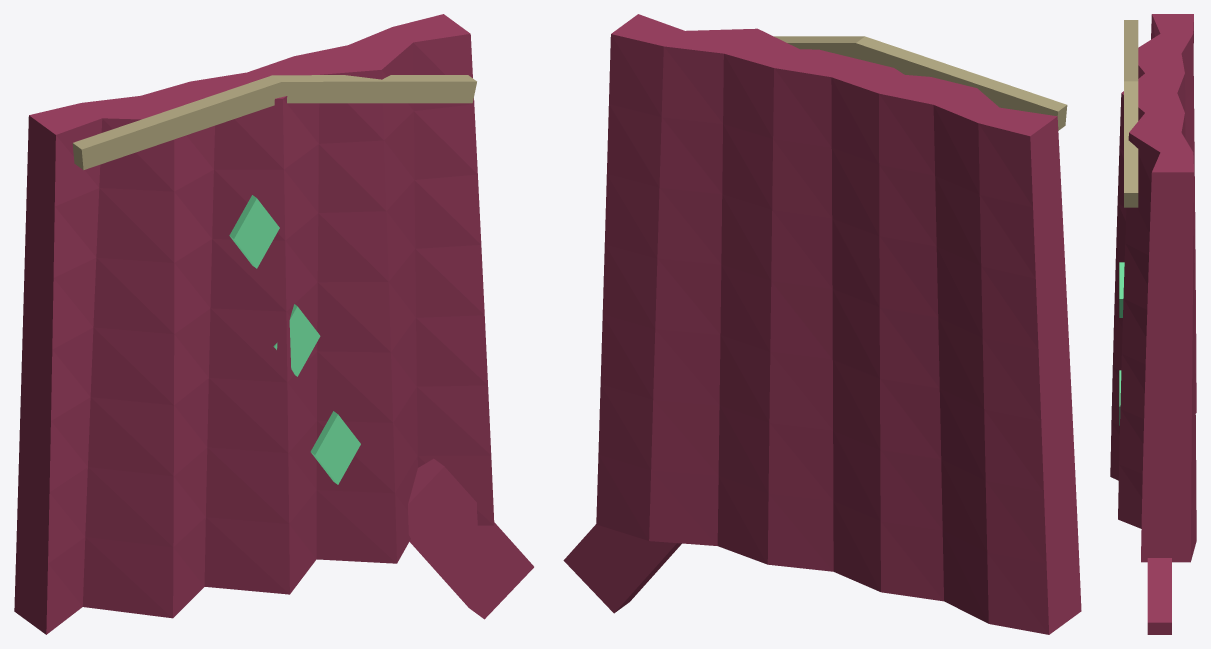
The model's file is spirit_script_streamer.obj.
3 views of the same model, side by side, from view 1: azimuth 30°, elevation 25°; view 2: azimuth 150°, elevation 25°; view 3: azimuth 270°, elevation 25° (orthographic). The views are drawn at different scales.
Visible parts, largest first — view 1: spirit_streamer, spirit_streamer_edge, streamer_tail, streamer_border, streamer_border_edge, script_0, script_2, script_1, streamer_tail_edge; view 2: spirit_streamer_back, spirit_streamer_edge, streamer_tail, streamer_border_edge, streamer_border; view 3: spirit_streamer_edge, spirit_streamer, spirit_streamer_back, streamer_border_edge, streamer_tail_edge, script_1_edge.
Boxes of the visible parts, x1,y1,x2,y2 form: spirit_streamer: (46, 34, 494, 634); spirit_streamer_edge: (14, 14, 470, 634); streamer_tail: (408, 466, 533, 619); streamer_border: (81, 81, 476, 169); streamer_border_edge: (72, 75, 476, 169); script_0: (234, 198, 279, 268); script_2: (315, 414, 360, 484); script_1: (274, 306, 320, 376); streamer_tail_edge: (408, 458, 483, 618); spirit_streamer_back: (596, 34, 1049, 634); spirit_streamer_edge: (611, 14, 1081, 634); streamer_tail: (563, 524, 676, 613); streamer_border_edge: (774, 36, 1067, 130); streamer_border: (787, 43, 1057, 116); spirit_streamer_edge: (1121, 14, 1193, 562); spirit_streamer: (1110, 14, 1160, 528); spirit_streamer_back: (1177, 22, 1196, 560); streamer_border_edge: (1124, 20, 1138, 207); streamer_tail_edge: (1147, 558, 1171, 634); script_1_edge: (1119, 262, 1124, 317).
Size of the model in its own units: 1.09 by 1.28 by 0.2122.
